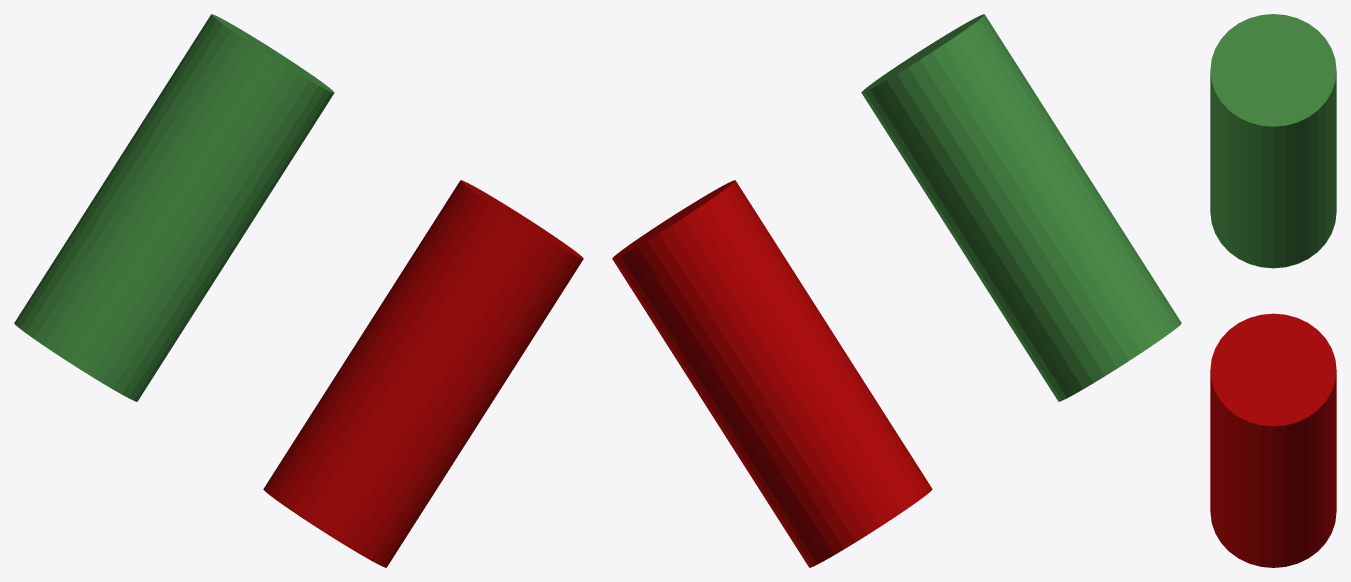
File: Mixbutton.glb
The picture shows the model from 3 angles, left to right: view 1: azimuth 30°, elevation 25°; view 2: azimuth 150°, elevation 25°; view 3: azimuth 270°, elevation 25°; orthographic projection. The views are drawn at different scales.
Visible parts, largest first — view 1: MixButton, Ausschalt; view 2: MixButton, Ausschalt; view 3: MixButton, Ausschalt.
Boxes of the visible parts, x1,y1,x2,y2 form: MixButton: (14, 14, 334, 401); Ausschalt: (263, 180, 583, 567); MixButton: (861, 14, 1181, 401); Ausschalt: (612, 180, 932, 567); MixButton: (1210, 14, 1336, 268); Ausschalt: (1210, 313, 1336, 567).
Size of the model in its own units: 0.0859 by 0.0857 by 0.02.
